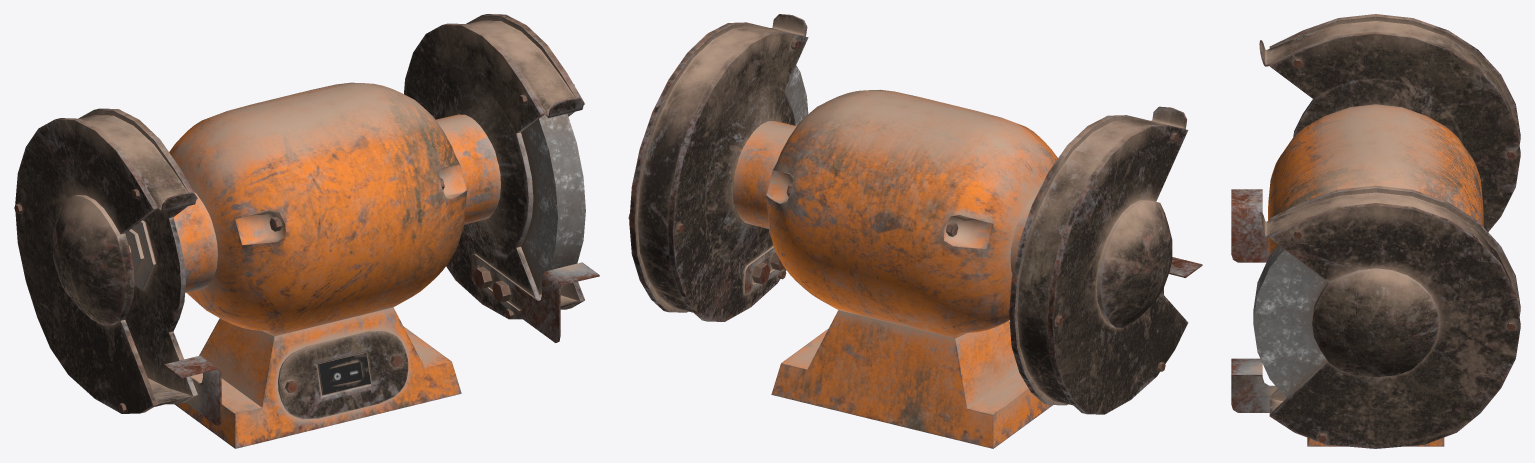
3 renders of one model, left to right at view 1: azimuth 30°, elevation 25°; view 2: azimuth 150°, elevation 25°; view 3: azimuth 270°, elevation 25°, orthographic. The views are drawn at different scales.
Parts seen in each view (by area): view 1: SM_Grinder; view 2: SM_Grinder; view 3: SM_Grinder.
Boxes of the visible parts, <box> form: SM_Grinder: <box>14,14,599,448</box>; SM_Grinder: <box>628,14,1202,448</box>; SM_Grinder: <box>1231,14,1520,448</box>.
Bounding box in the file's own units: 928 × 573 × 524.
Materials: 1 (1 with a texture image).
